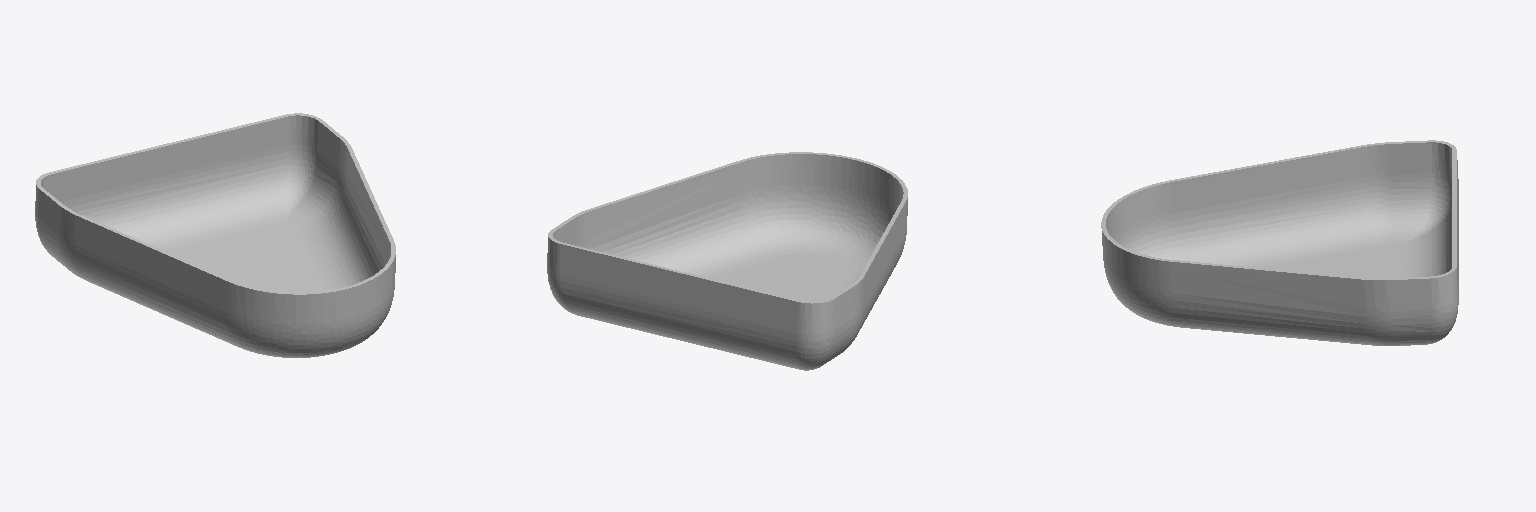
Rendered from smg_tactip_skin.obj.
3 renders of one model, left to right at view 1: azimuth 30°, elevation 25°; view 2: azimuth 150°, elevation 25°; view 3: azimuth 270°, elevation 25°, orthographic.
Parts seen in each view (by area): view 1: TB_skin-1_TB_skin-1.001; view 2: TB_skin-1_TB_skin-1.001; view 3: TB_skin-1_TB_skin-1.001.
Boxes of the visible parts, x1=… form: TB_skin-1_TB_skin-1.001: x1=35, y1=113, x2=395, y2=357; TB_skin-1_TB_skin-1.001: x1=547, y1=152, x2=907, y2=370; TB_skin-1_TB_skin-1.001: x1=1101, y1=140, x2=1458, y2=345.
Size of the model in its own units: 0.036 by 0.0116 by 0.0394.